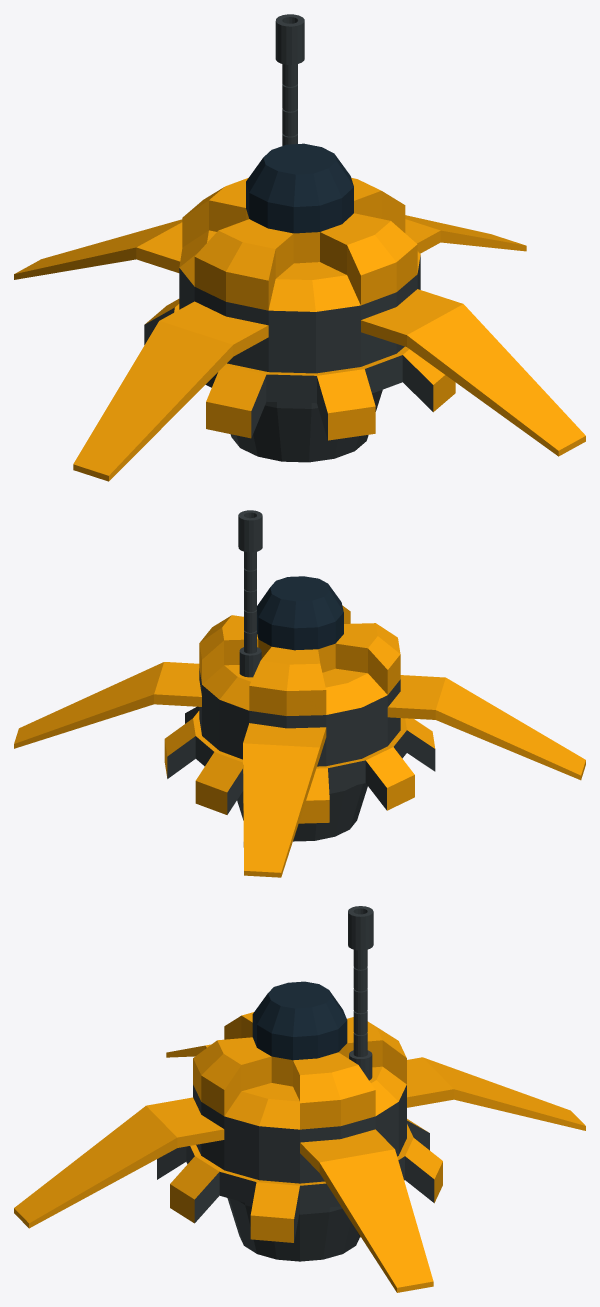
The picture shows the model from 3 angles, top to bottom: view 1: azimuth 30°, elevation 25°; view 2: azimuth 150°, elevation 25°; view 3: azimuth 270°, elevation 25°; orthographic projection. The views are drawn at different scales.
Visible parts, largest first — view 1: Circle, Circle.001, Cylinder.009; view 2: Circle, Circle.001, Cylinder.009; view 3: Circle, Circle.001, Cylinder.009.
Part boxes in pixels (bbox=[...]): Circle: bbox=[144, 143, 455, 462]; Circle.001: bbox=[14, 215, 585, 481]; Cylinder.009: bbox=[275, 14, 304, 145]; Circle: bbox=[164, 576, 435, 841]; Circle.001: bbox=[14, 662, 585, 877]; Cylinder.009: bbox=[238, 510, 262, 677]; Circle: bbox=[157, 981, 442, 1261]; Circle.001: bbox=[14, 1044, 585, 1292]; Cylinder.009: bbox=[348, 906, 373, 1080].
Bounding box in the file's own units: 3.59 × 2.32 × 3.59.
